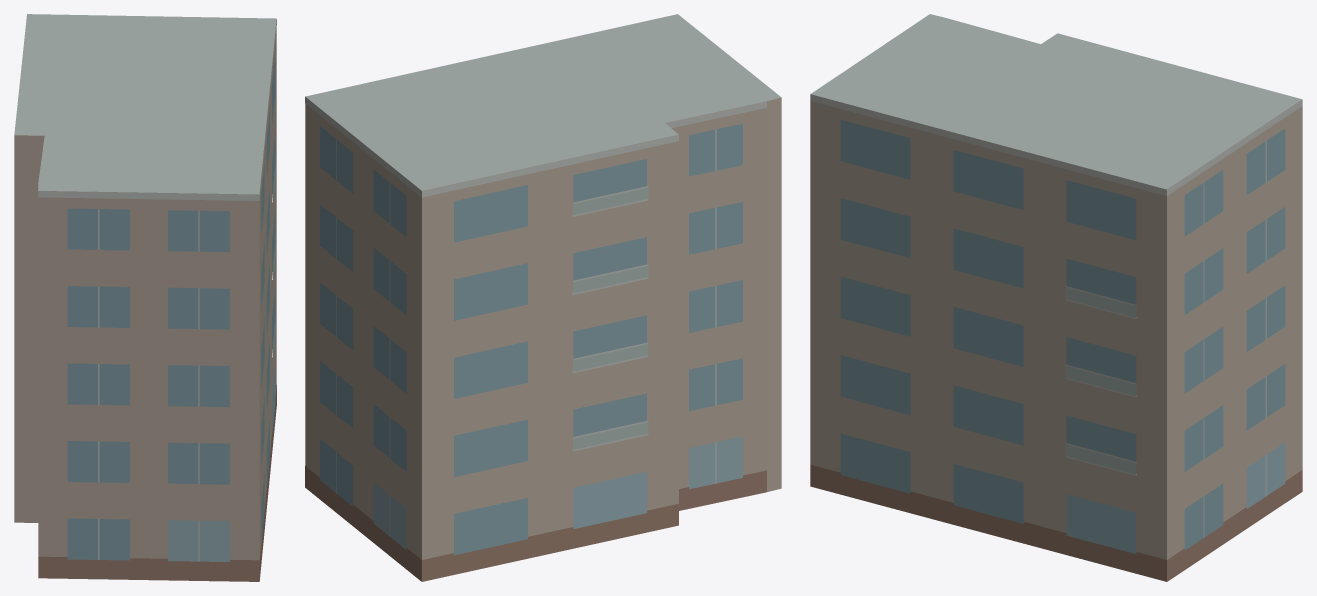
Rendered from survey-upis-33046513.glb.
3 views of the same model, side by side, from view 1: azimuth 30°, elevation 25°; view 2: azimuth 150°, elevation 25°; view 3: azimuth 270°, elevation 25° (orthographic).
Visible parts, largest first — view 1: survey-upis-33046513.tmp; view 2: survey-upis-33046513.tmp; view 3: survey-upis-33046513.tmp.
Boxes of the visible parts, box(x1,y1,x2,y2) form: survey-upis-33046513.tmp: box(14, 14, 276, 581); survey-upis-33046513.tmp: box(305, 14, 781, 581); survey-upis-33046513.tmp: box(810, 14, 1302, 581).
Size of the model in its own units: 13.83 by 14.4 by 16.38.
